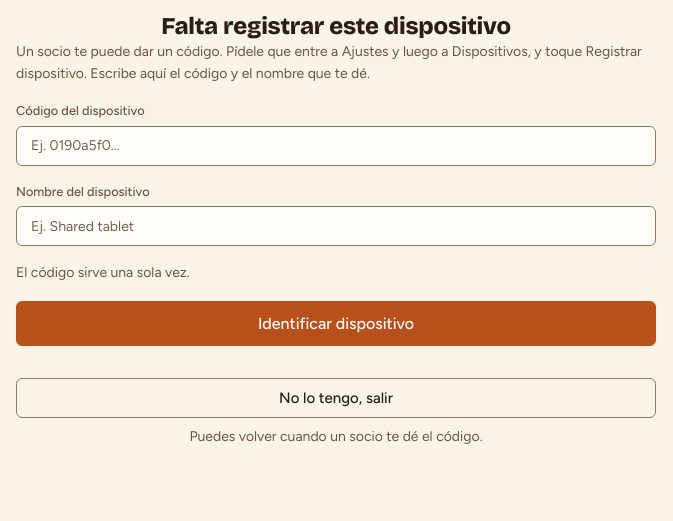
Test: cuenta atada que llega sin dispositivo (aceptó en otra computadora y ahora usa otro teléfono) › un código ya usado (409) dice "Este código ya se usó…", aunque el servidor hable de "identificador"
Type "abc" into the field labelled "Código del dispositivo" at (336, 146), box 16,126 -> 656,166
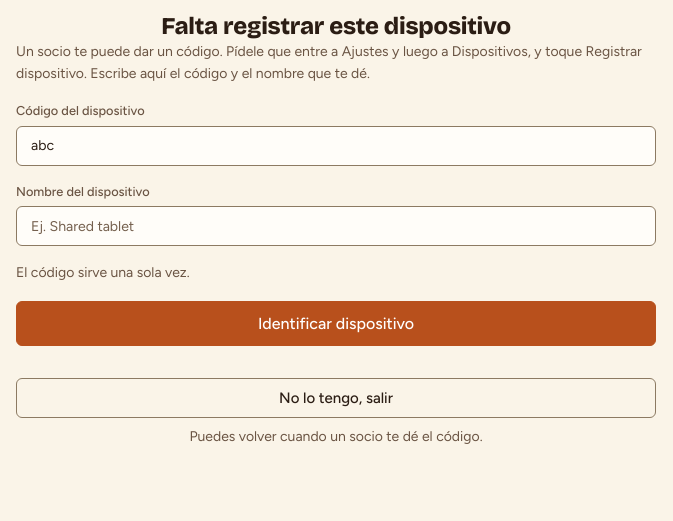
Type "Tablet" into the field labelled "Nombre del dispositivo" at (336, 226), box 16,206 -> 656,246
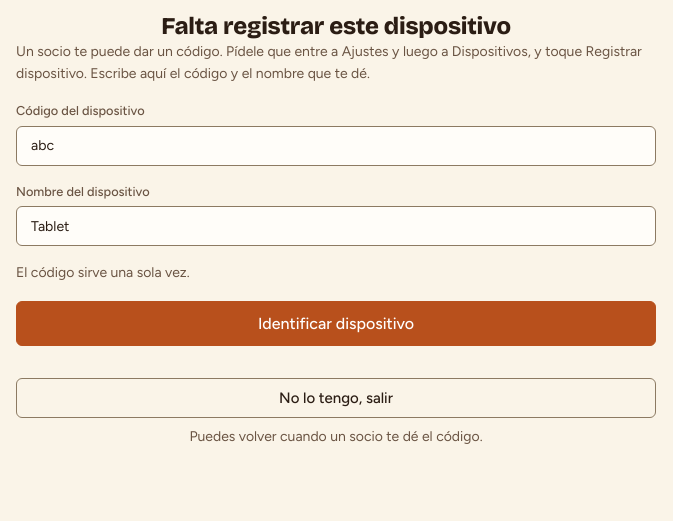
Submit the form, box 16,41 -> 656,346
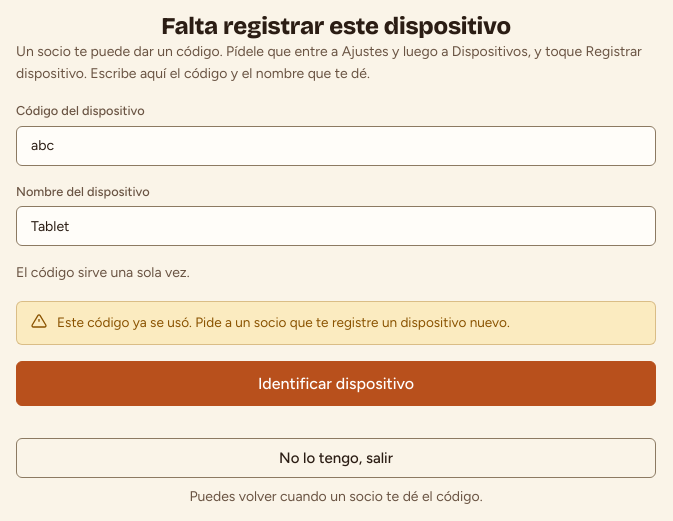
Expected: the text "Este código ya se usó. Pide a un socio que te registre un dispositivo nuevo." is shown, 57,314 -> 510,330
